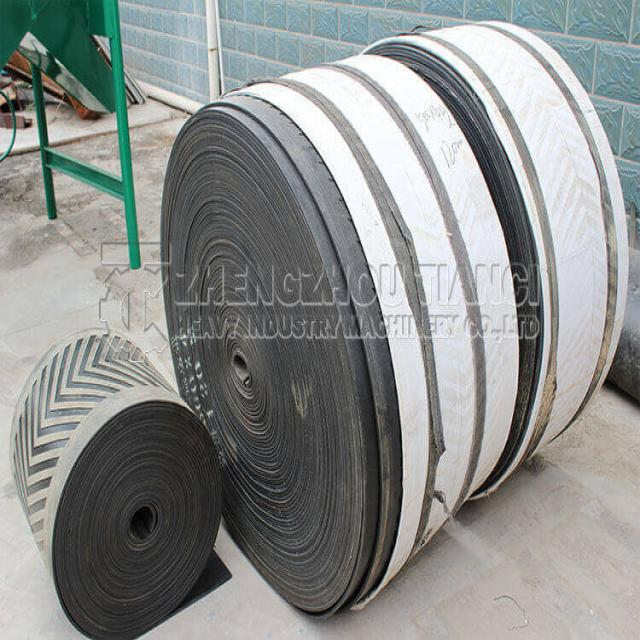conveyor: (16, 37, 610, 611)
